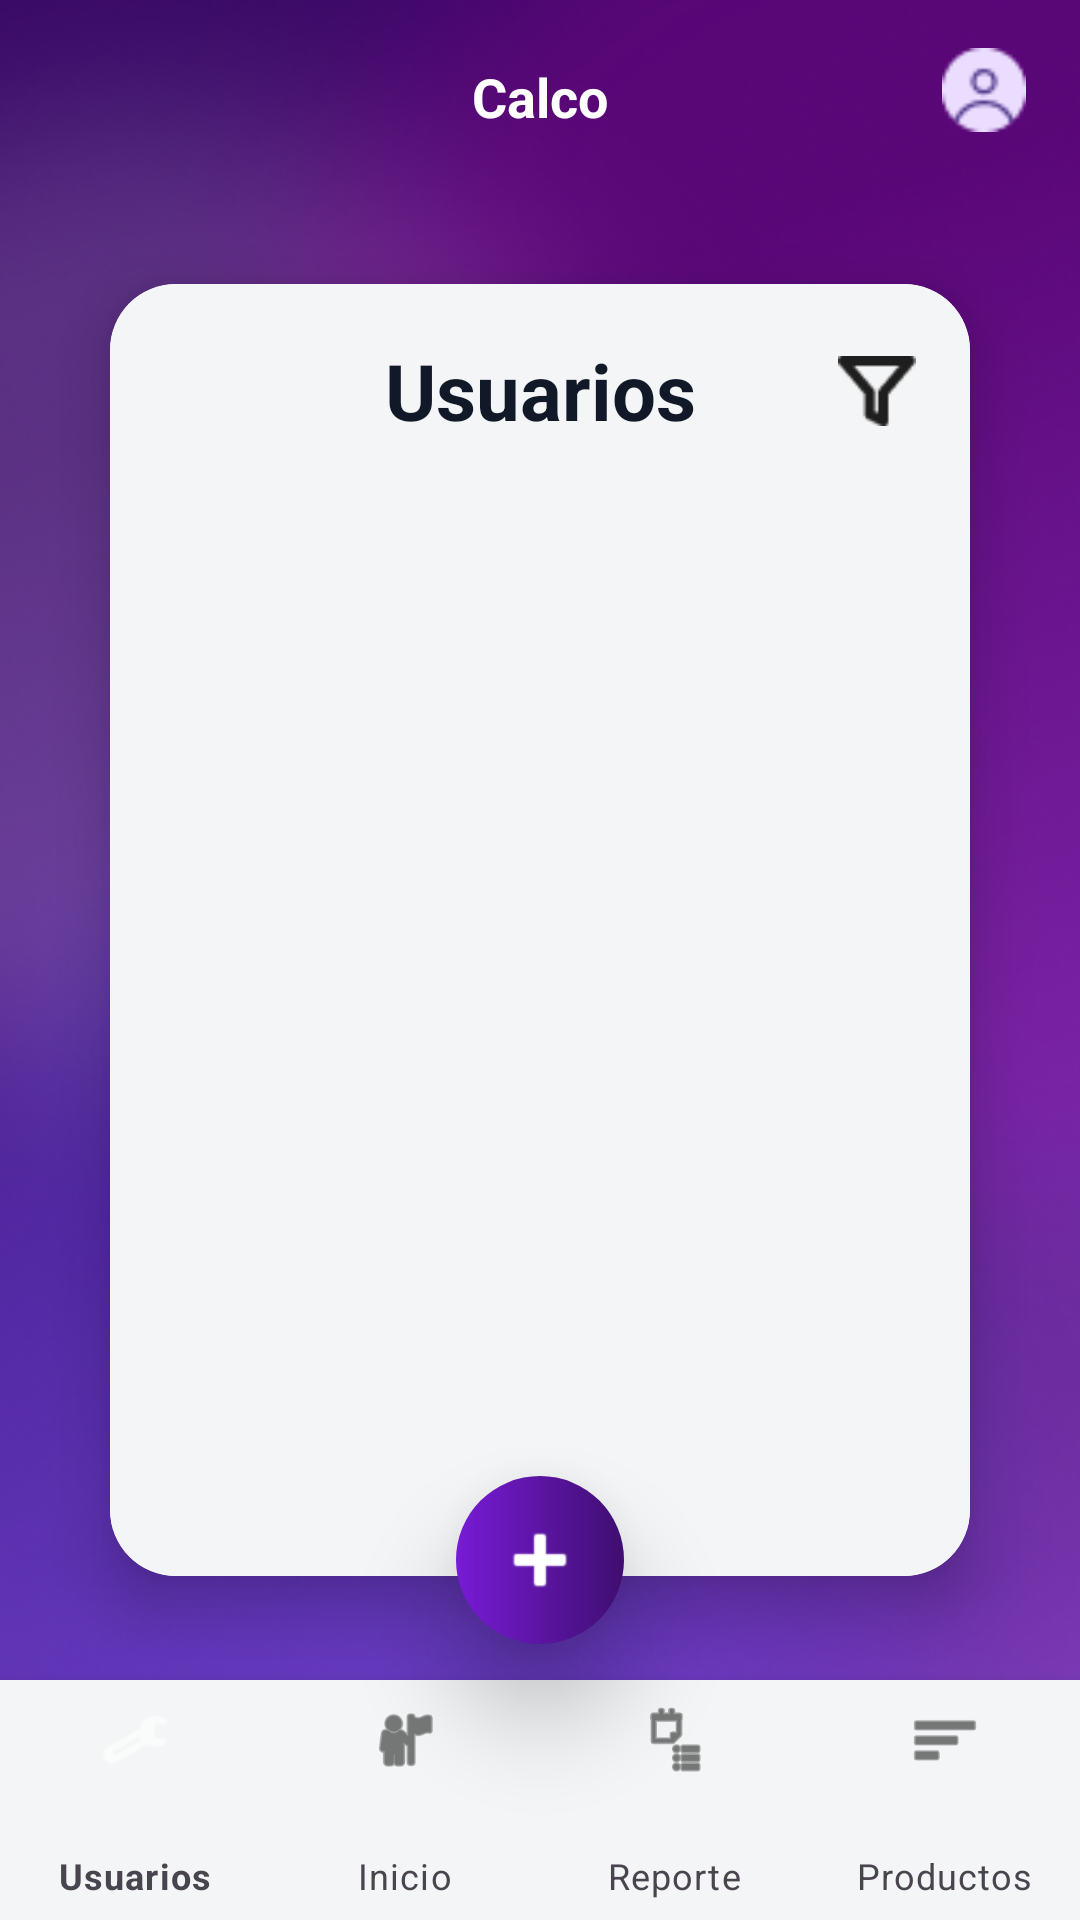

Point at icon controls on the screen. Image size 1080x1920, points as (x=x, y=y).
Filtro: (x=877, y=391)
Perfil: (x=984, y=90)
